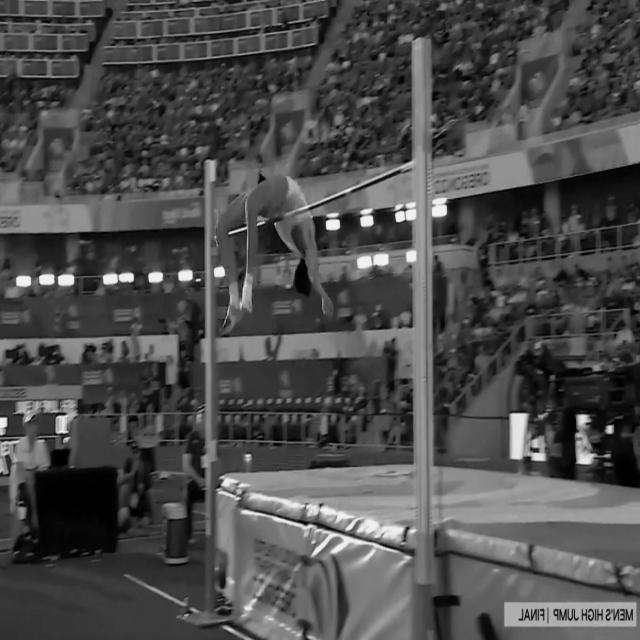jump: (214, 158, 334, 337)
